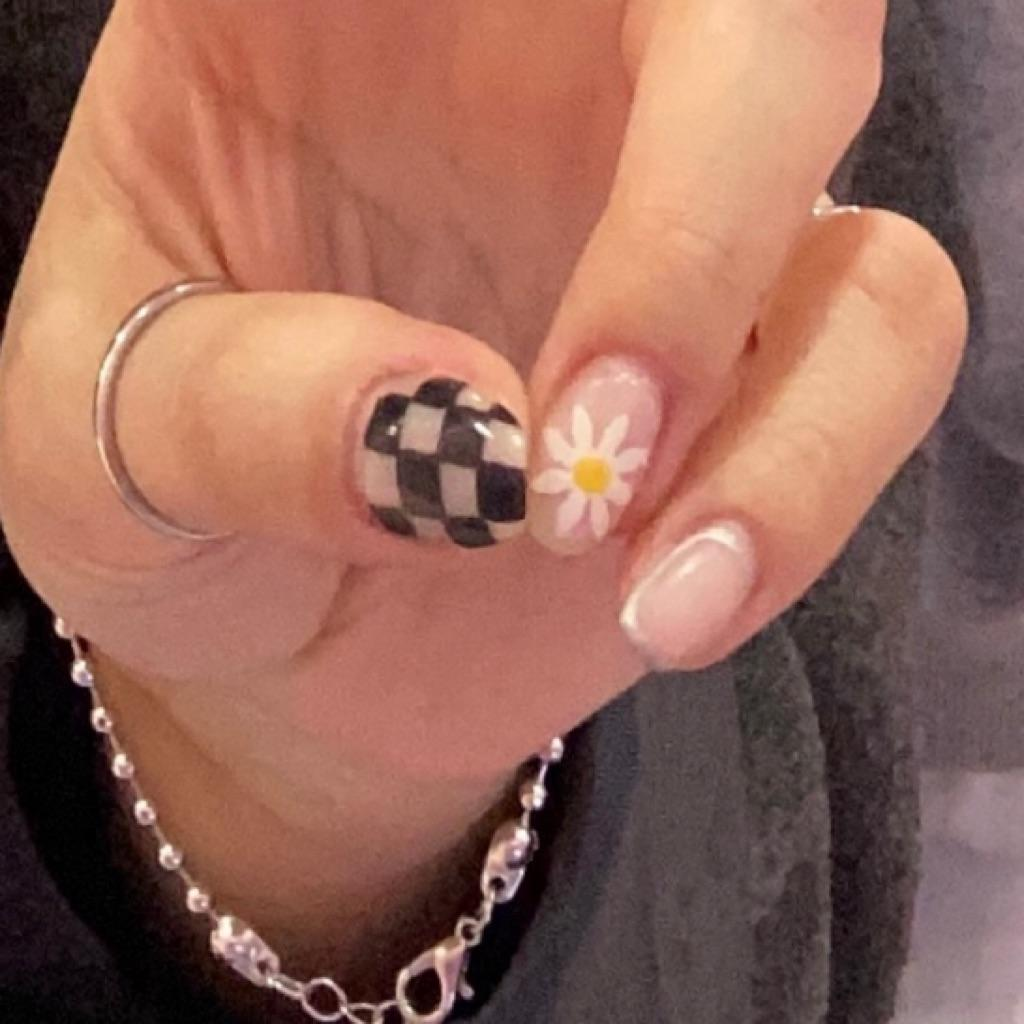nail: (617, 516, 759, 666)
